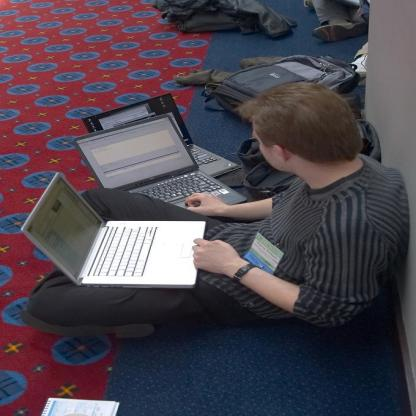board: (17, 172, 207, 289), (77, 114, 246, 212), (80, 92, 241, 178)
